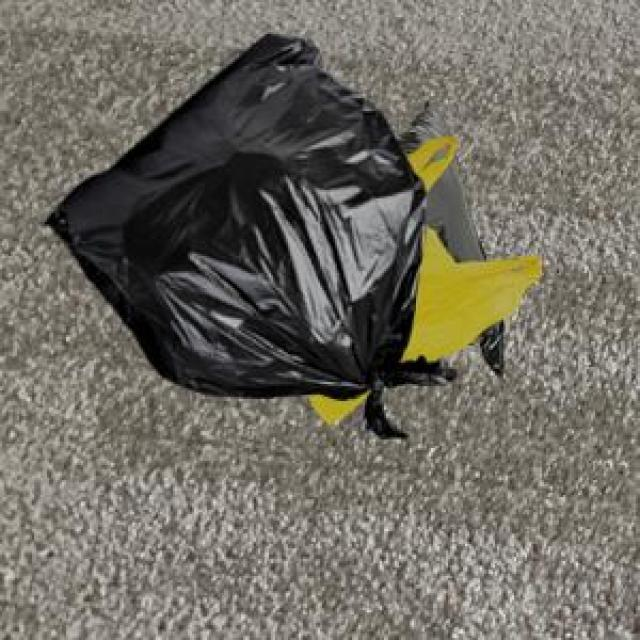miscellaneous trash: (41, 30, 452, 435), (393, 96, 499, 373)
